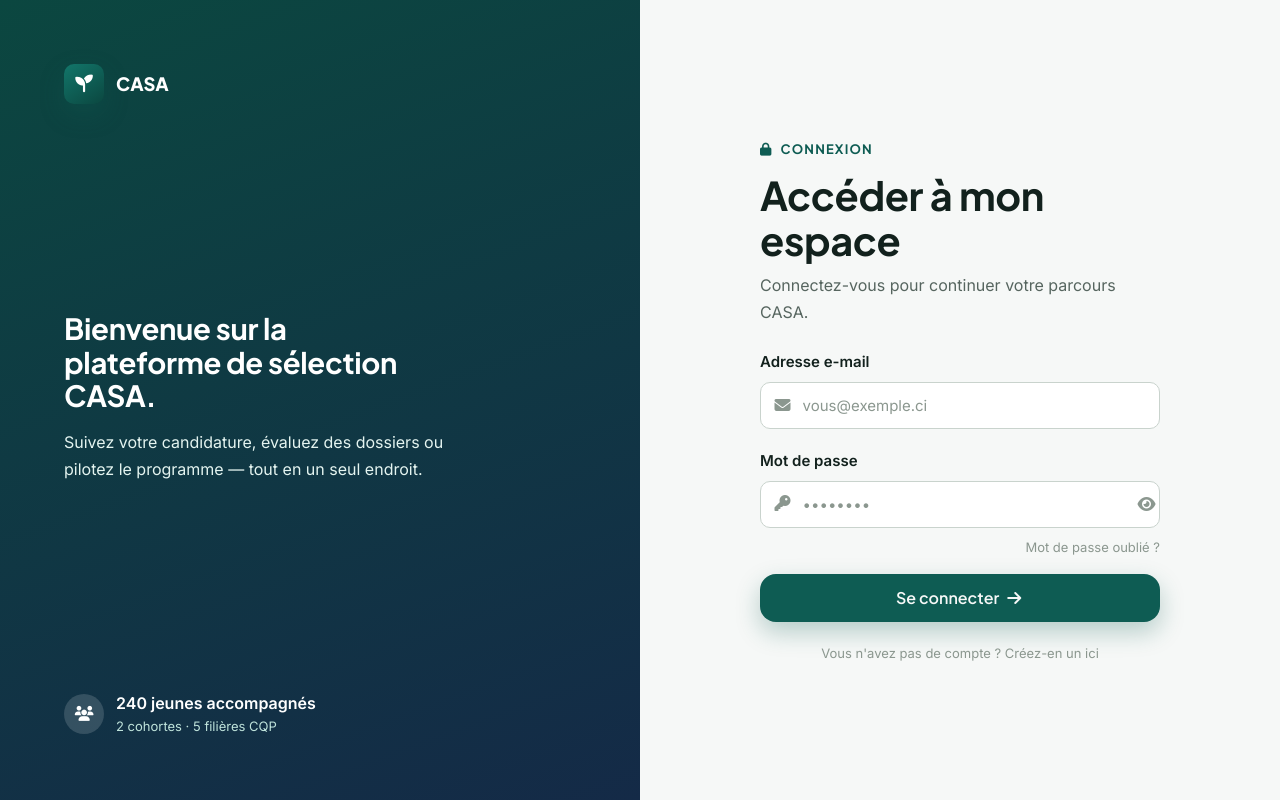
Test: LoginPage › le bouton œil bascule l’affichage sans déclencher la connexion
In the password field labelled "Mot de passe": (960, 504) x1=760 y1=481 x2=1160 y2=528, type "UnMotDePasse2026"
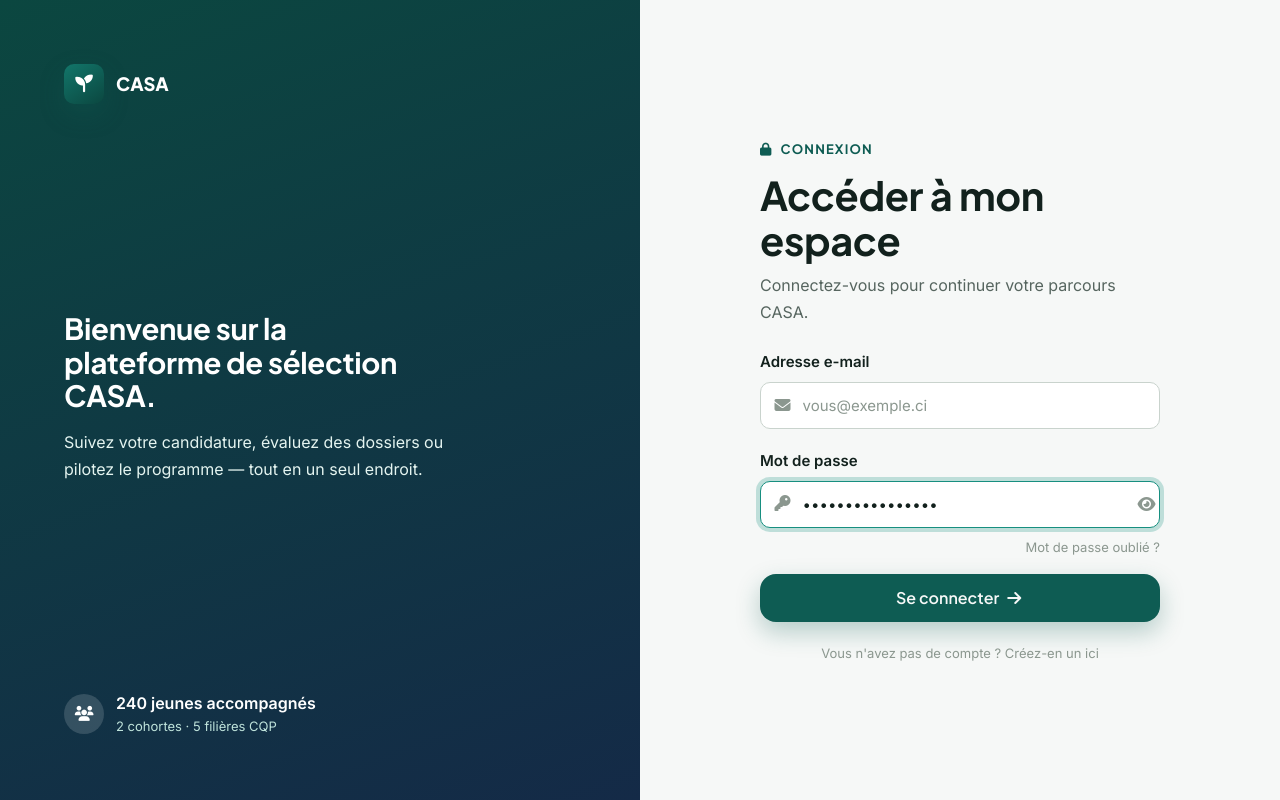
Click the button named "Afficher le mot de passe": (1138, 504) x1=1123 y1=490 x2=1152 y2=519
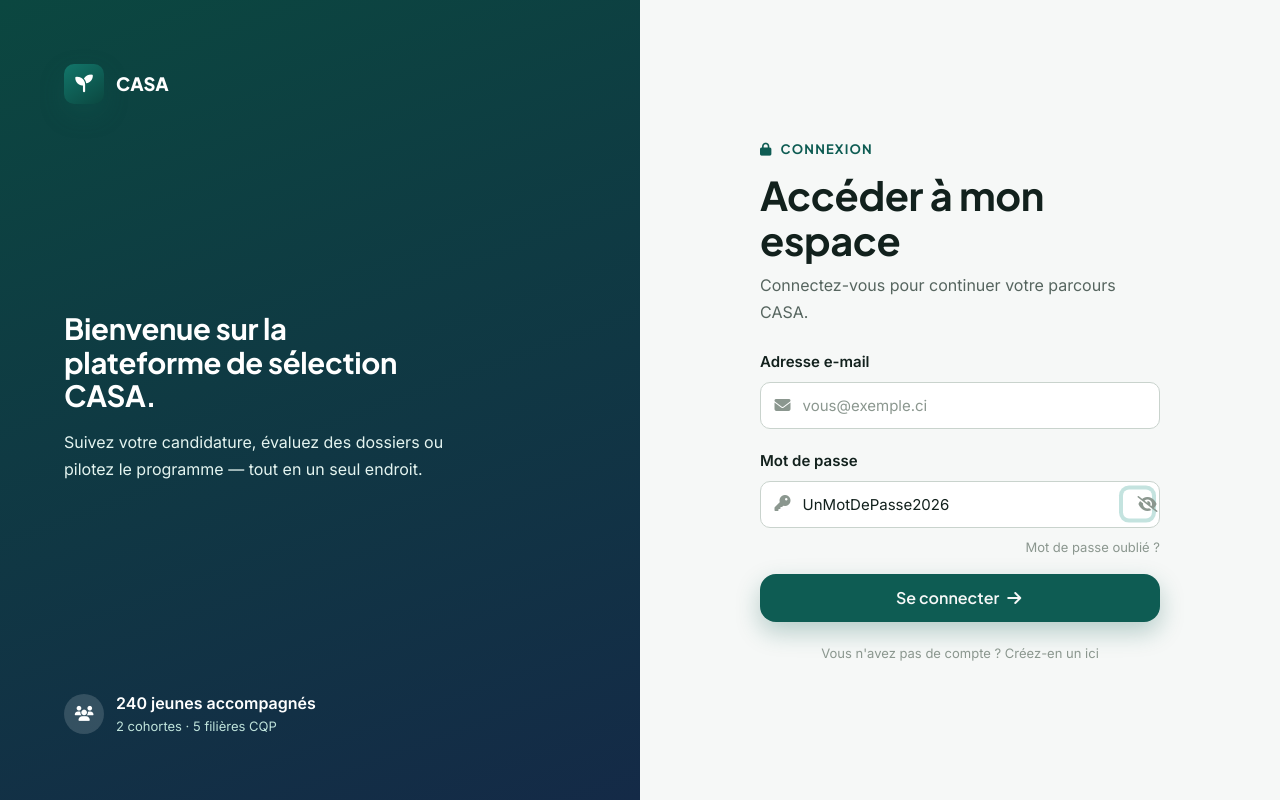
Check: the field labelled "Mot de passe" shows its text, box x1=760 y1=481 x2=1160 y2=528
